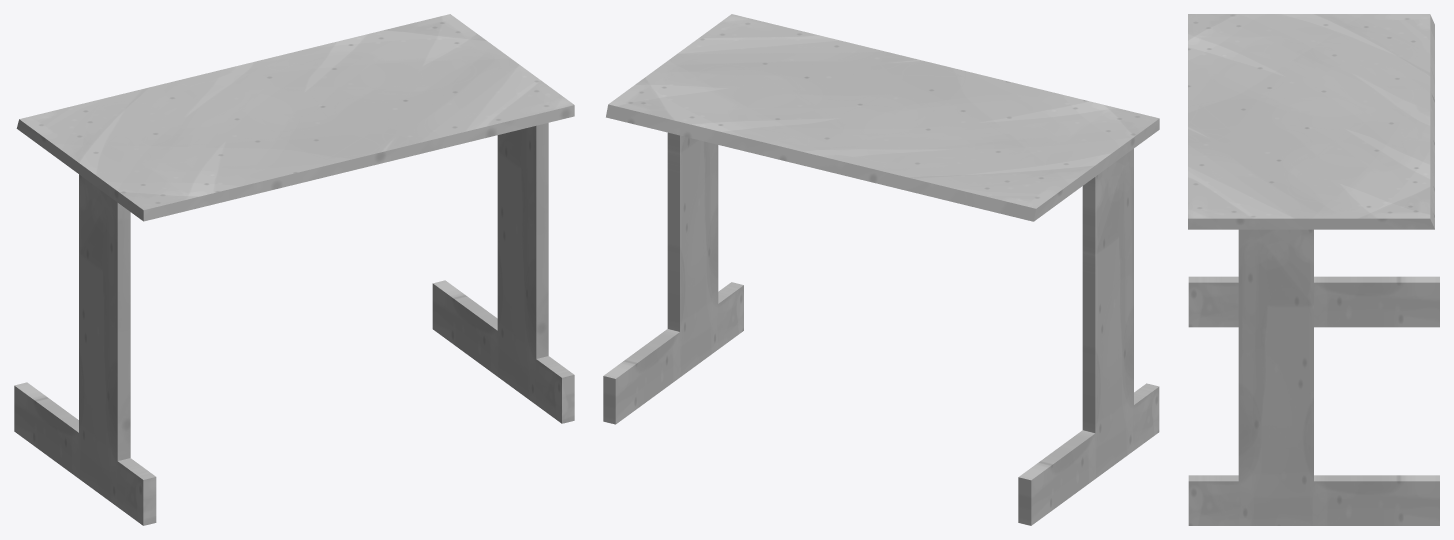
The model's file is table.FBX.
The picture shows the model from 3 angles, left to right: view 1: azimuth 30°, elevation 25°; view 2: azimuth 150°, elevation 25°; view 3: azimuth 270°, elevation 25°; orthographic projection. The views are drawn at different scales.
Visible parts, largest first — view 1: table; view 2: table; view 3: table.
Part boxes in pixels (<box>): table: <box>14,14,574,525</box>; table: <box>603,14,1159,525</box>; table: <box>1188,14,1439,525</box>.
Bounding box in the file's own units: 2 × 1.4 × 1.04.
